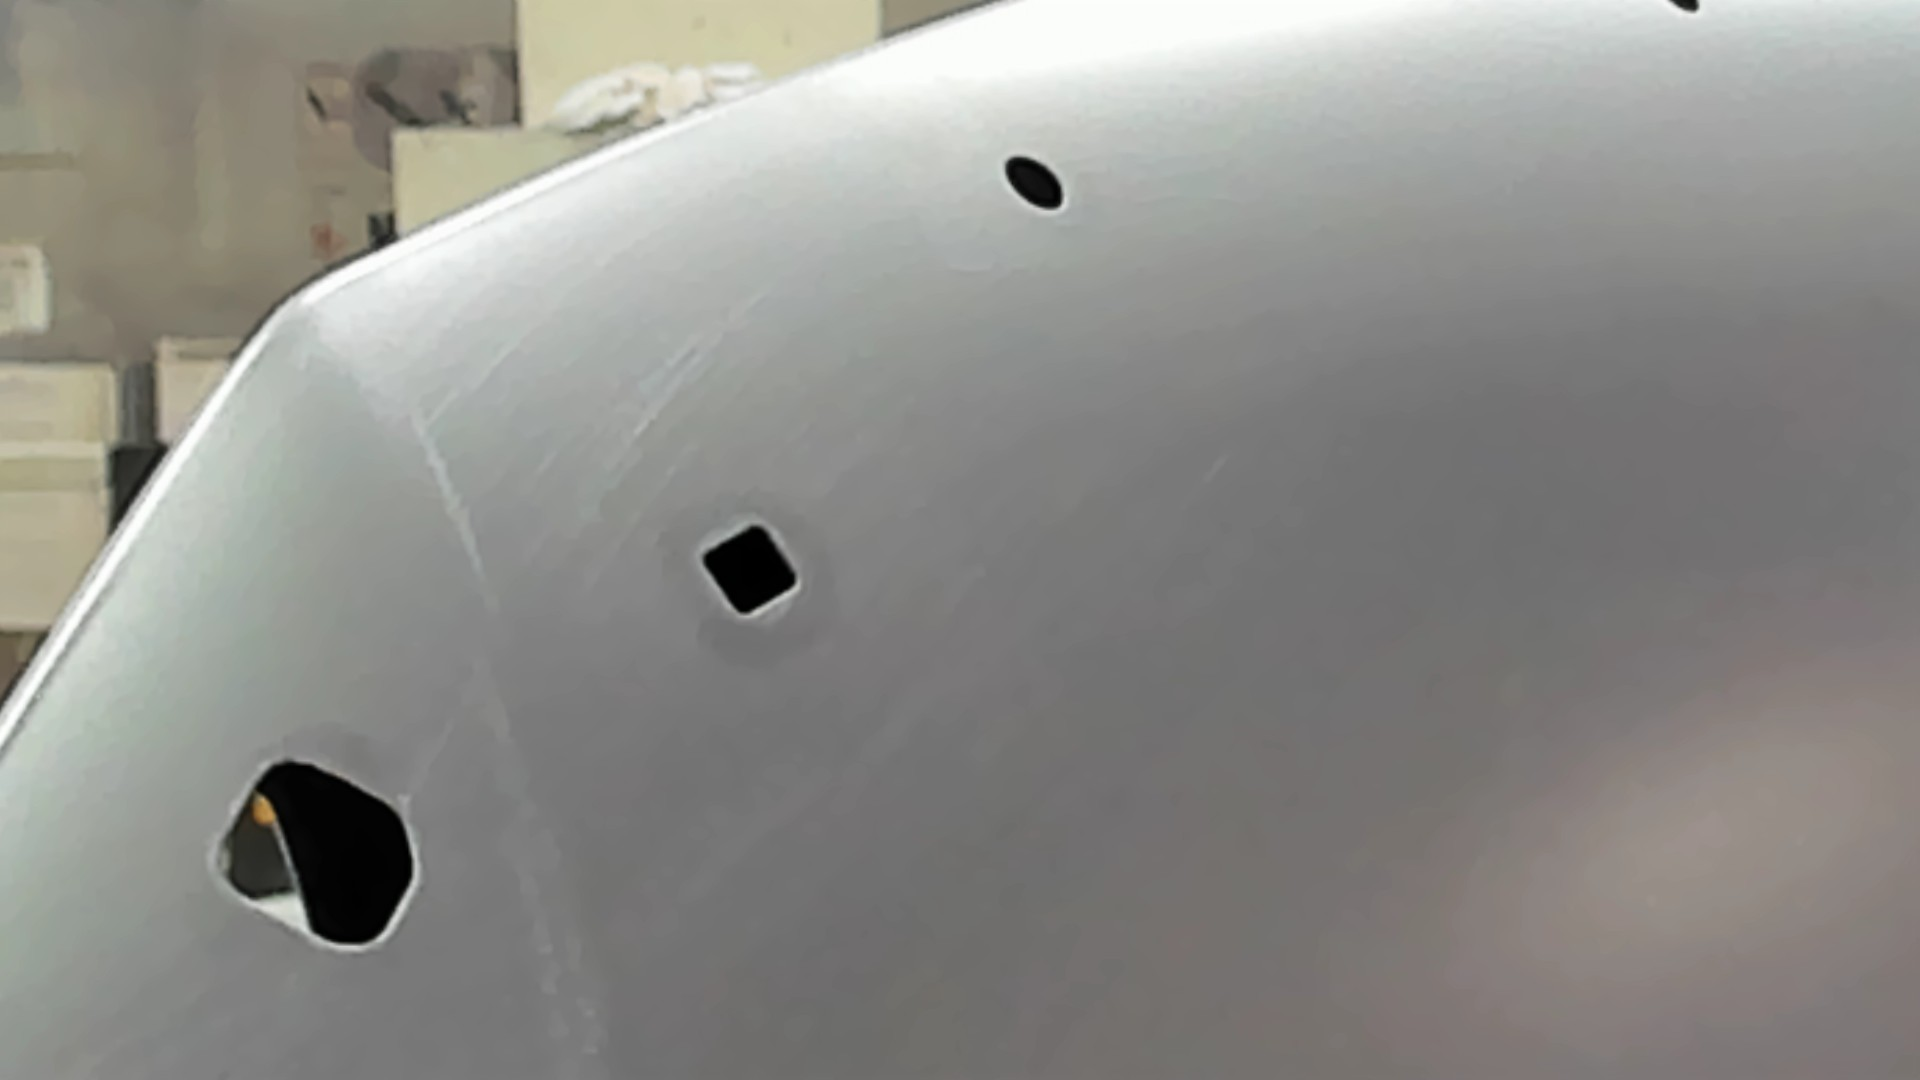capo: (808, 220, 1920, 1080)
chico: (1000, 149, 1069, 215)
grande: (206, 749, 425, 957)
mediano: (694, 516, 804, 622)
